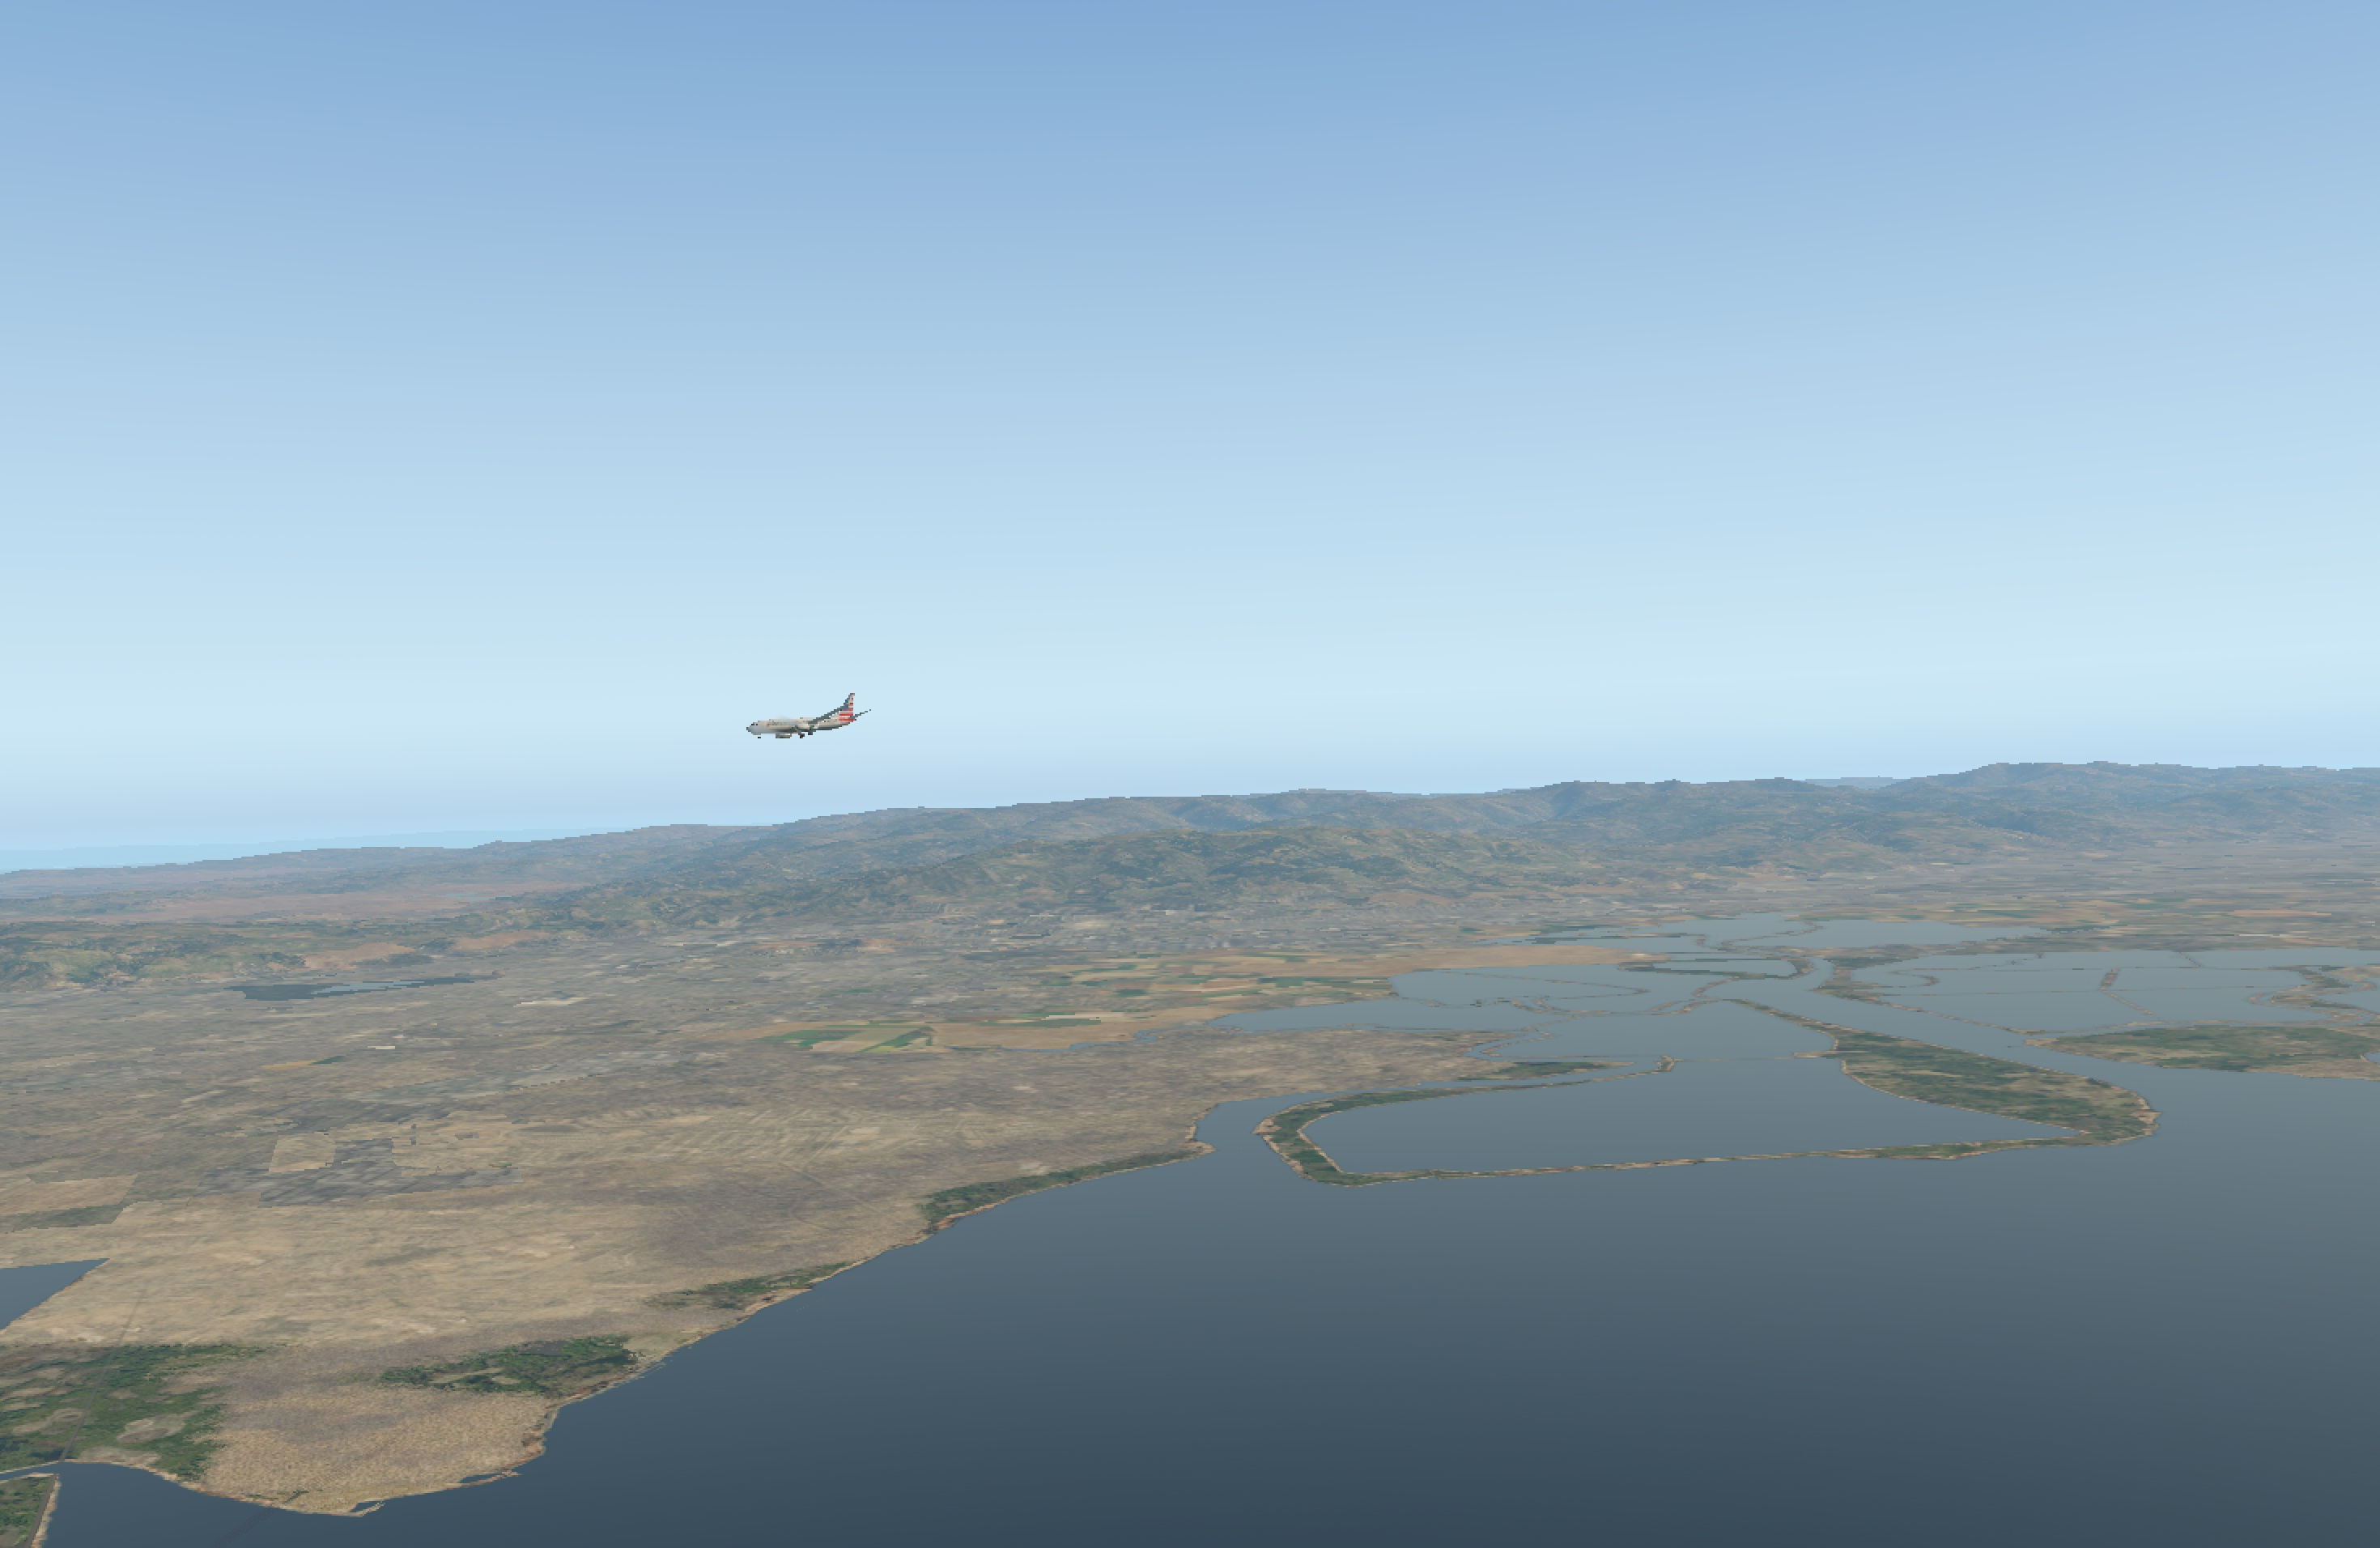aircraft: (734, 703, 867, 751)
